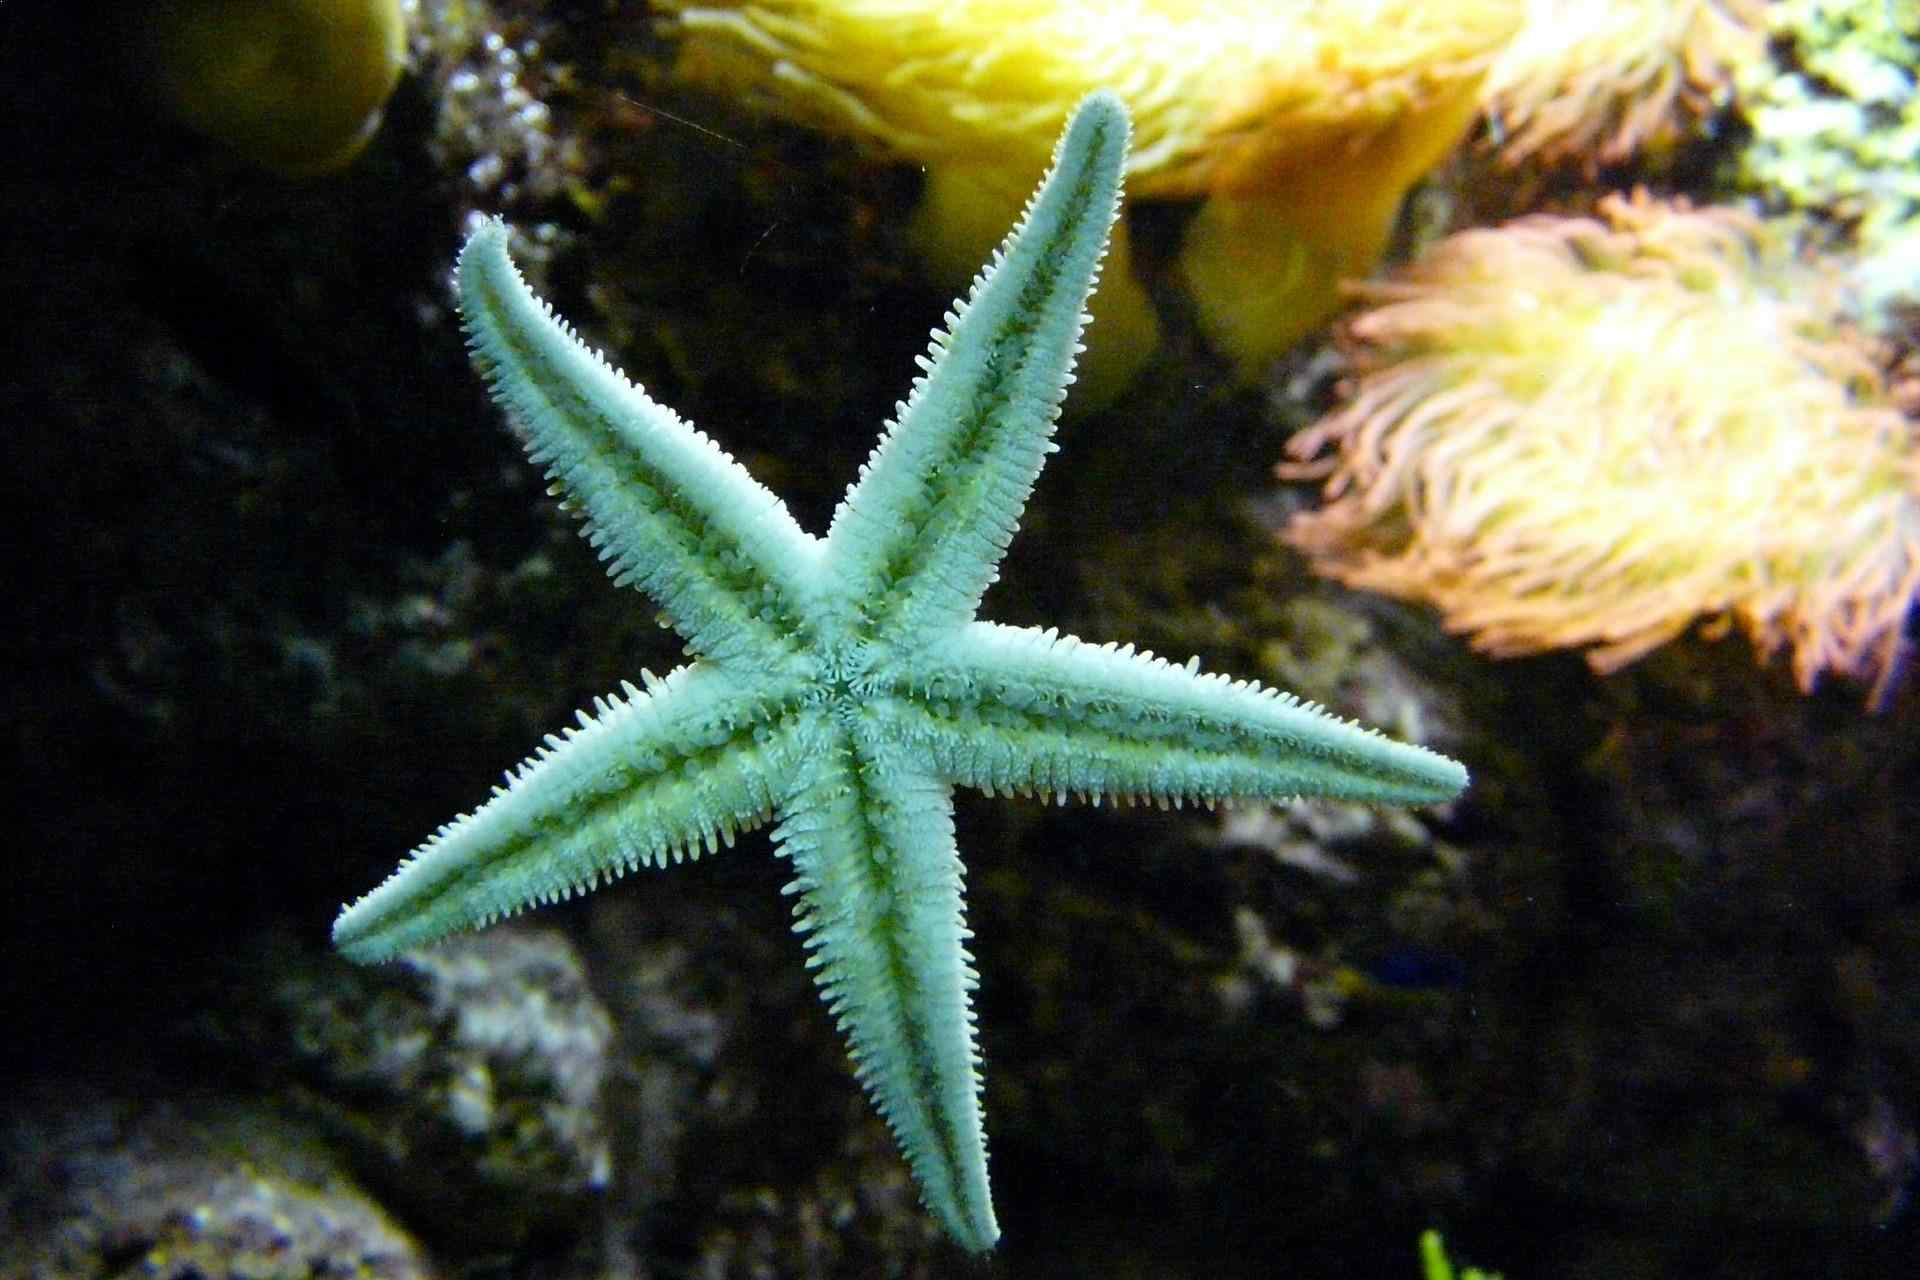starfish: (301, 109, 1460, 1250)
